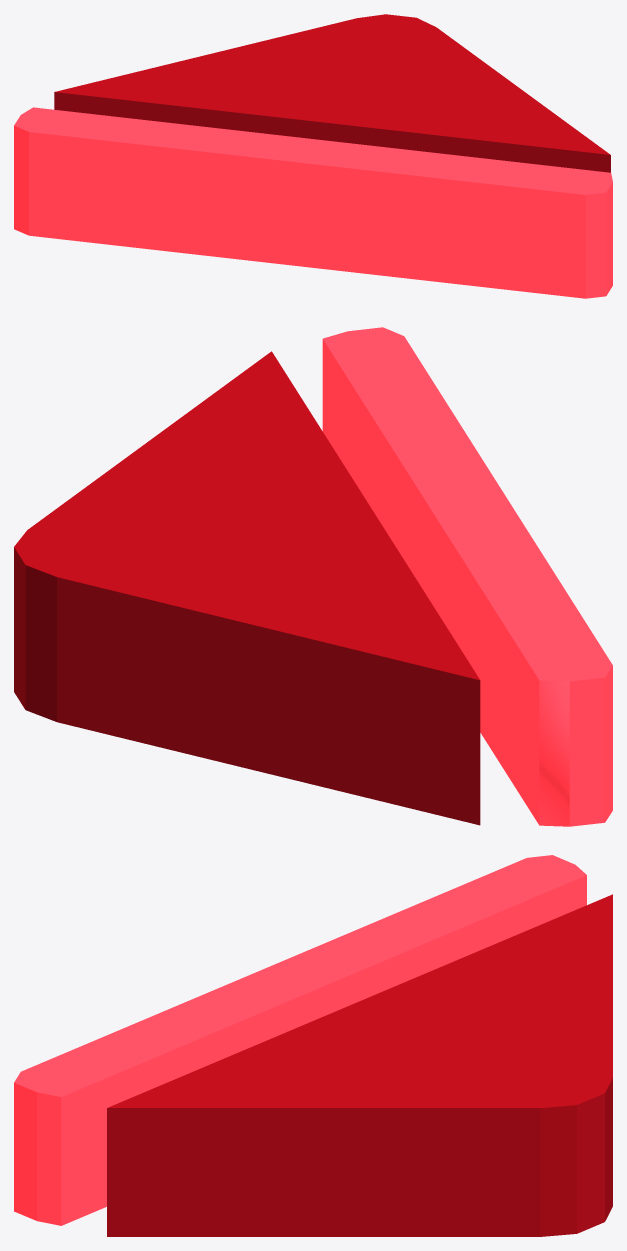
The model's file is red_pyramid.gltf.
3 views of the same model, one above another, from view 1: azimuth 30°, elevation 25°; view 2: azimuth 150°, elevation 25°; view 3: azimuth 270°, elevation 25° (orthographic). The views are drawn at different scales.
Parts seen in each view (by area): view 1: icon_pyramid_red; view 2: icon_pyramid_red; view 3: icon_pyramid_red.
Boxes of the visible parts, x1,y1,x2,y2 form: icon_pyramid_red: (14, 14, 612, 298); icon_pyramid_red: (14, 327, 612, 826); icon_pyramid_red: (14, 855, 612, 1236).
Bounding box in the file's own units: 1.44 × 0.3427 × 1.44.
2 materials, 2 textured.
